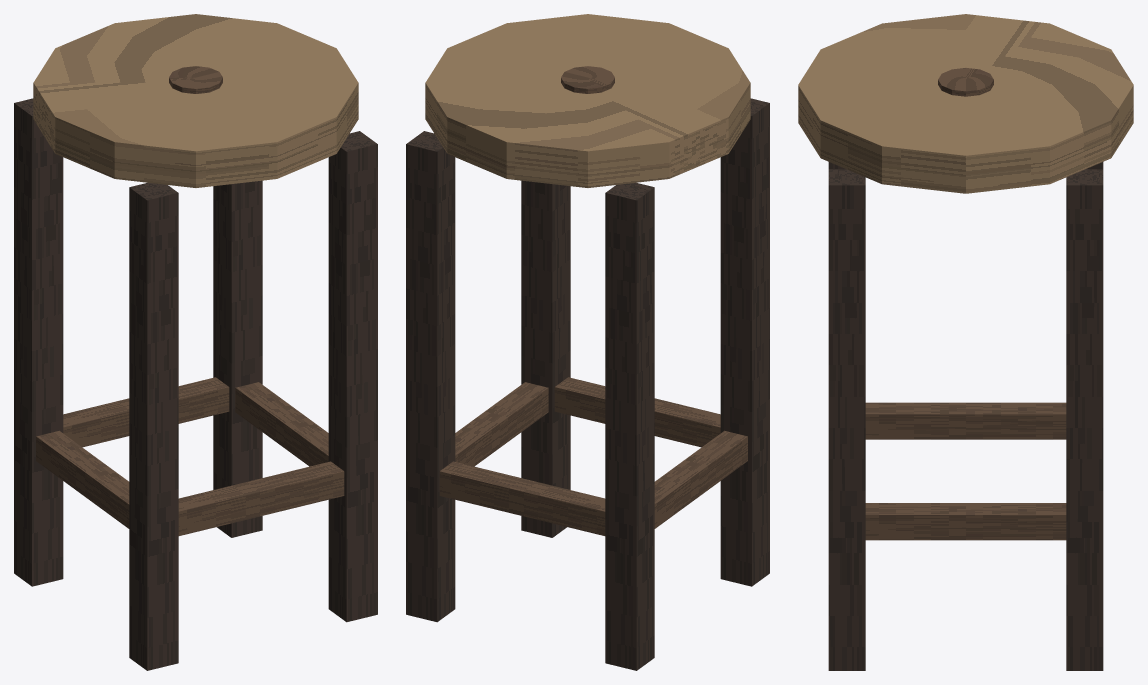
Rendered from banco_cocina.glb.
3 renders of one model, left to right at view 1: azimuth 30°, elevation 25°; view 2: azimuth 150°, elevation 25°; view 3: azimuth 270°, elevation 25°, orthographic. The views are drawn at different scales.
Parts seen in each view (by area): view 1: banco_cocina; view 2: banco_cocina; view 3: banco_cocina.
Boxes of the visible parts, x1,y1,x2,y2 form: banco_cocina: (14, 14, 377, 670); banco_cocina: (406, 14, 769, 670); banco_cocina: (798, 14, 1133, 670).
Bounding box in the file's own units: 0.4389 × 0.7696 × 0.4389.
Materials: 1 (1 with a texture image).
